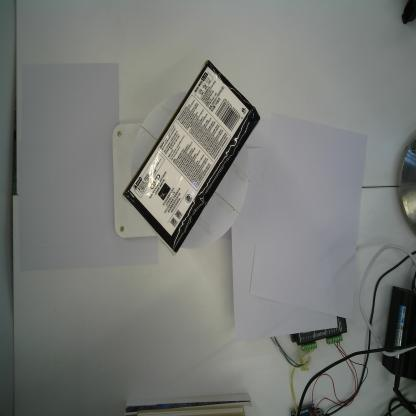Tissue: (120, 57, 262, 258)
